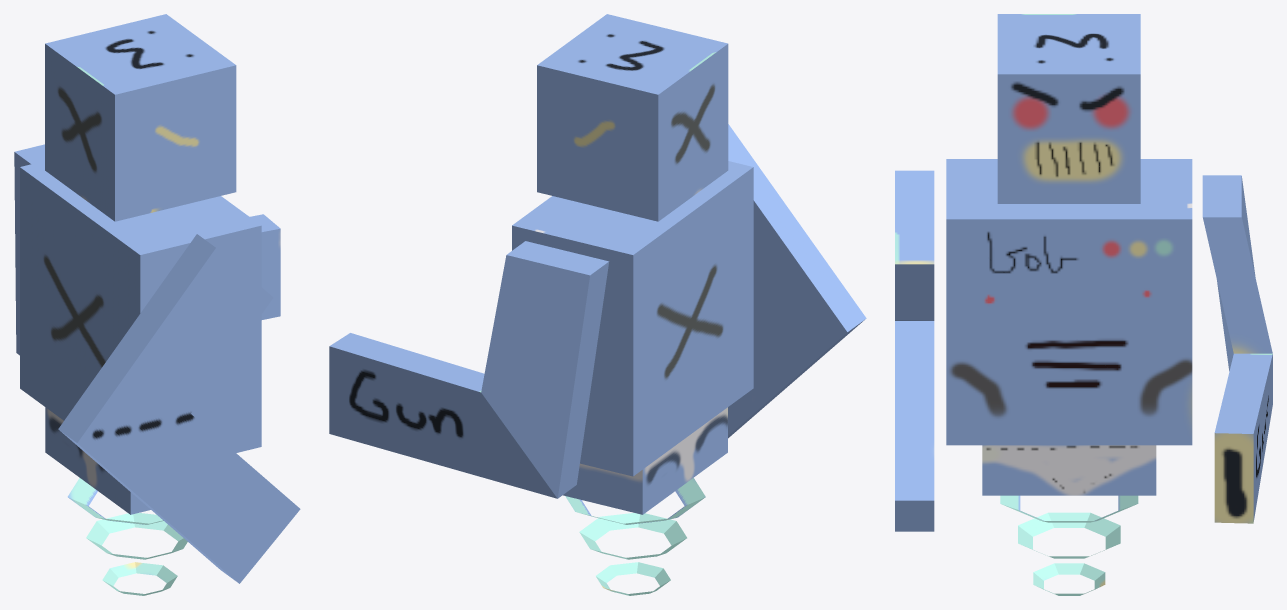
Rendered from robotDummy.obj.
3 renders of one model, left to right at view 1: azimuth 30°, elevation 25°; view 2: azimuth 150°, elevation 25°; view 3: azimuth 270°, elevation 25°, orthographic. The views are drawn at different scales.
Visible parts, largest first — view 1: Cube.001_Cube.003; view 2: Cube.001_Cube.003; view 3: Cube.001_Cube.003.
Boxes of the visible parts, left/top/right/bottom form: Cube.001_Cube.003: left=14, top=14, right=300, bottom=595; Cube.001_Cube.003: left=329, top=14, right=866, bottom=595; Cube.001_Cube.003: left=895, top=14, right=1272, bottom=595.
Size of the model in its own units: 0.8949 by 1.25 by 0.7924.
